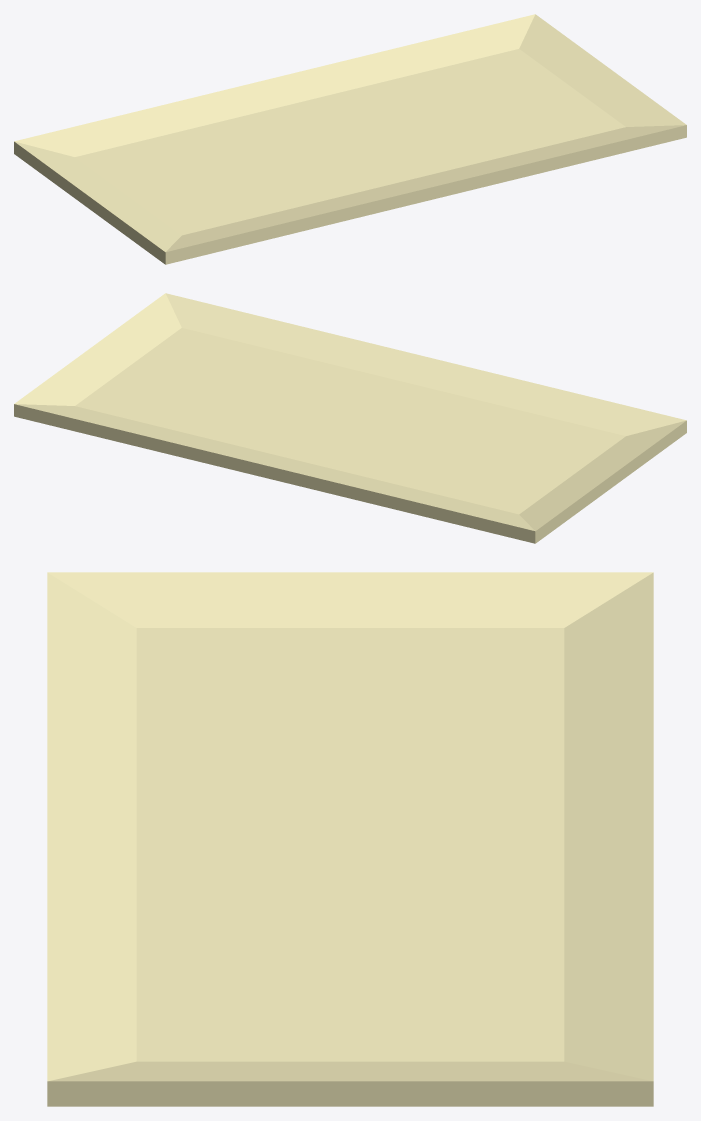
File: Itr_Obj_dish4_02.FBX
3 views of the same model, one above another, from view 1: azimuth 30°, elevation 25°; view 2: azimuth 150°, elevation 25°; view 3: azimuth 270°, elevation 25° (orthographic). The views are drawn at different scales.
Parts seen in each view (by area): view 1: Itr_Obj_dish4_02; view 2: Itr_Obj_dish4_02; view 3: Itr_Obj_dish4_02.
Part boxes in pixels (<box>): Itr_Obj_dish4_02: <box>14,14,686,264</box>; Itr_Obj_dish4_02: <box>14,293,686,543</box>; Itr_Obj_dish4_02: <box>47,572,653,1106</box>.
Size of the model in its own units: 23.87 by 0.9383 by 12.01.
